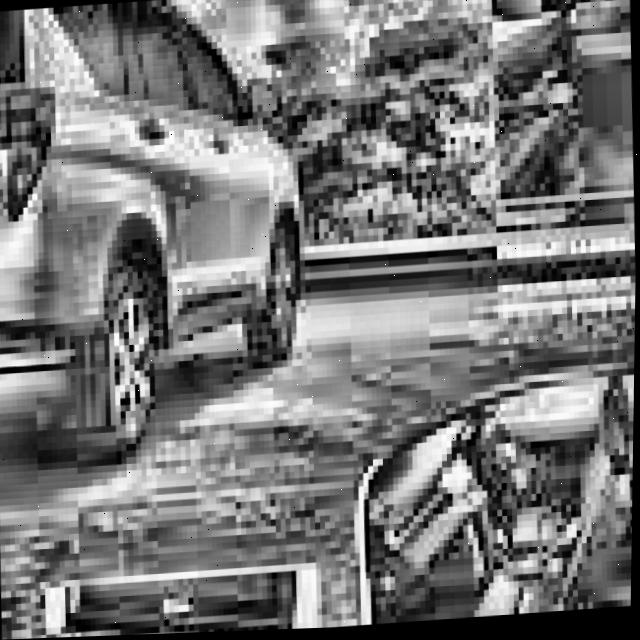light_vehicle: (0, 0, 310, 473)
